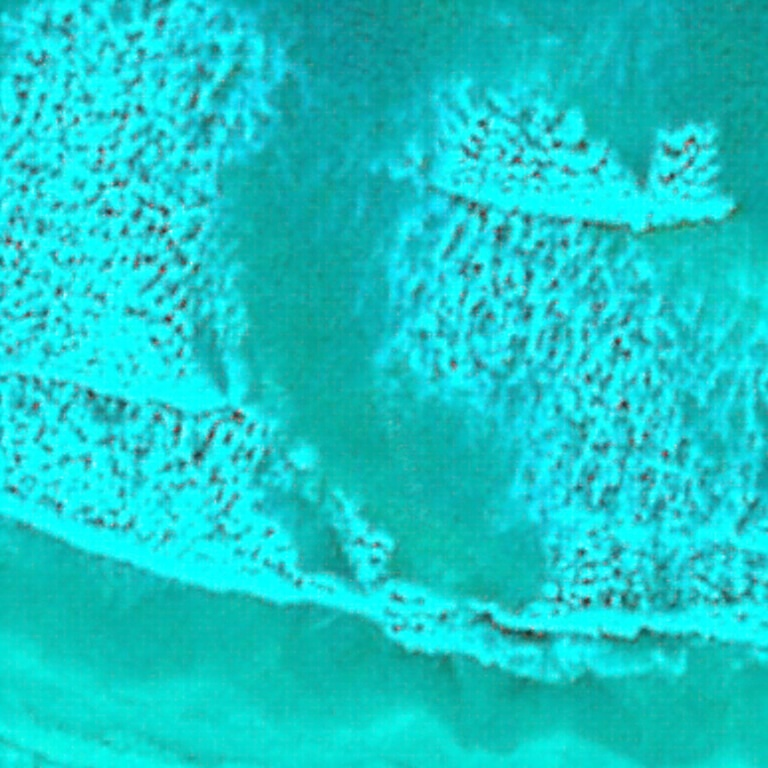rip_current: (135, 88, 619, 671)
